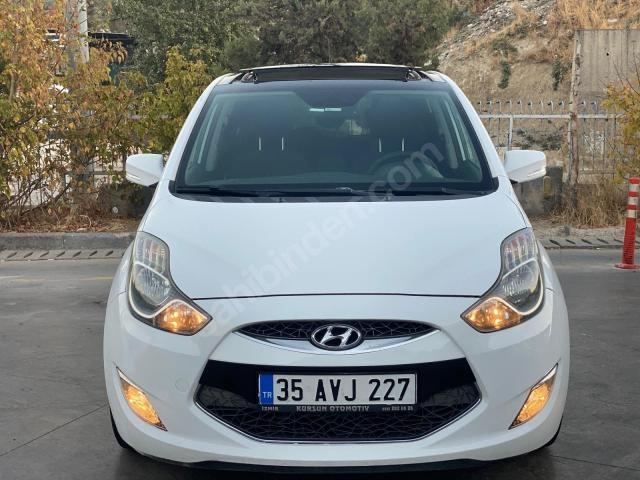plaka: (258, 374, 416, 410)
